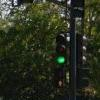Traffic light: (45, 25, 78, 79)
